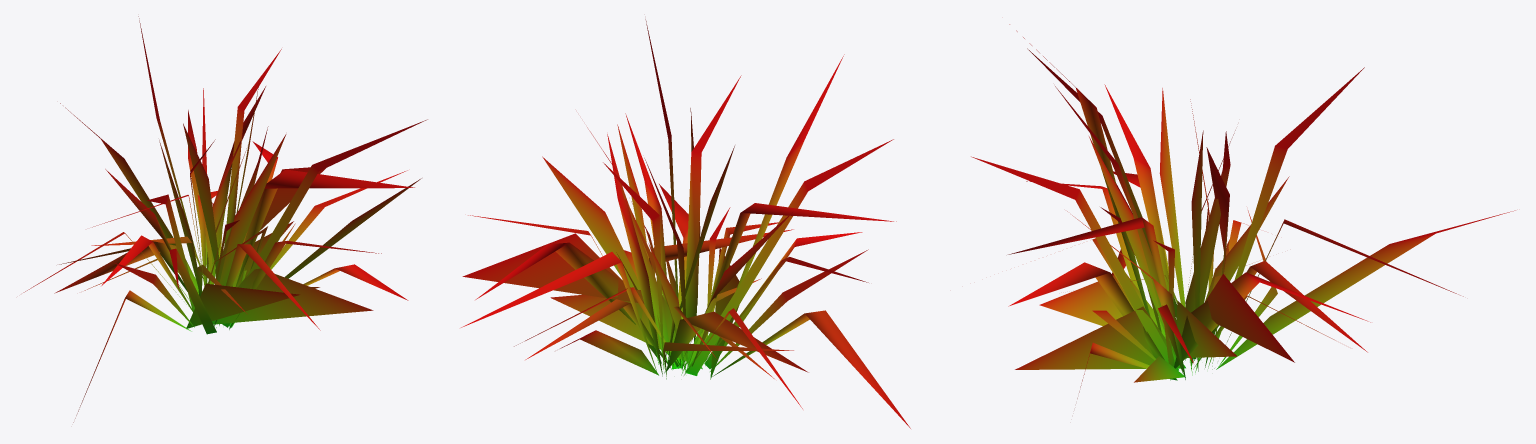
File: blenderGrass.fbx
3 views of the same model, side by side, from view 1: azimuth 30°, elevation 25°; view 2: azimuth 150°, elevation 25°; view 3: azimuth 270°, elevation 25° (orthographic). The views are drawn at different scales.
Parts seen in each view (by area): view 1: _d4a2_Var1_LOD0; view 2: _d4a2_Var1_LOD0; view 3: _d4a2_Var1_LOD0.
Part boxes in pixels (box(x1,y1,x2,y2)): _d4a2_Var1_LOD0: box(23, 16, 427, 422); _d4a2_Var1_LOD0: box(461, 19, 910, 428); _d4a2_Var1_LOD0: box(971, 24, 1515, 398).
Bounding box in the file's own units: 65.64 × 49.06 × 72.64.
